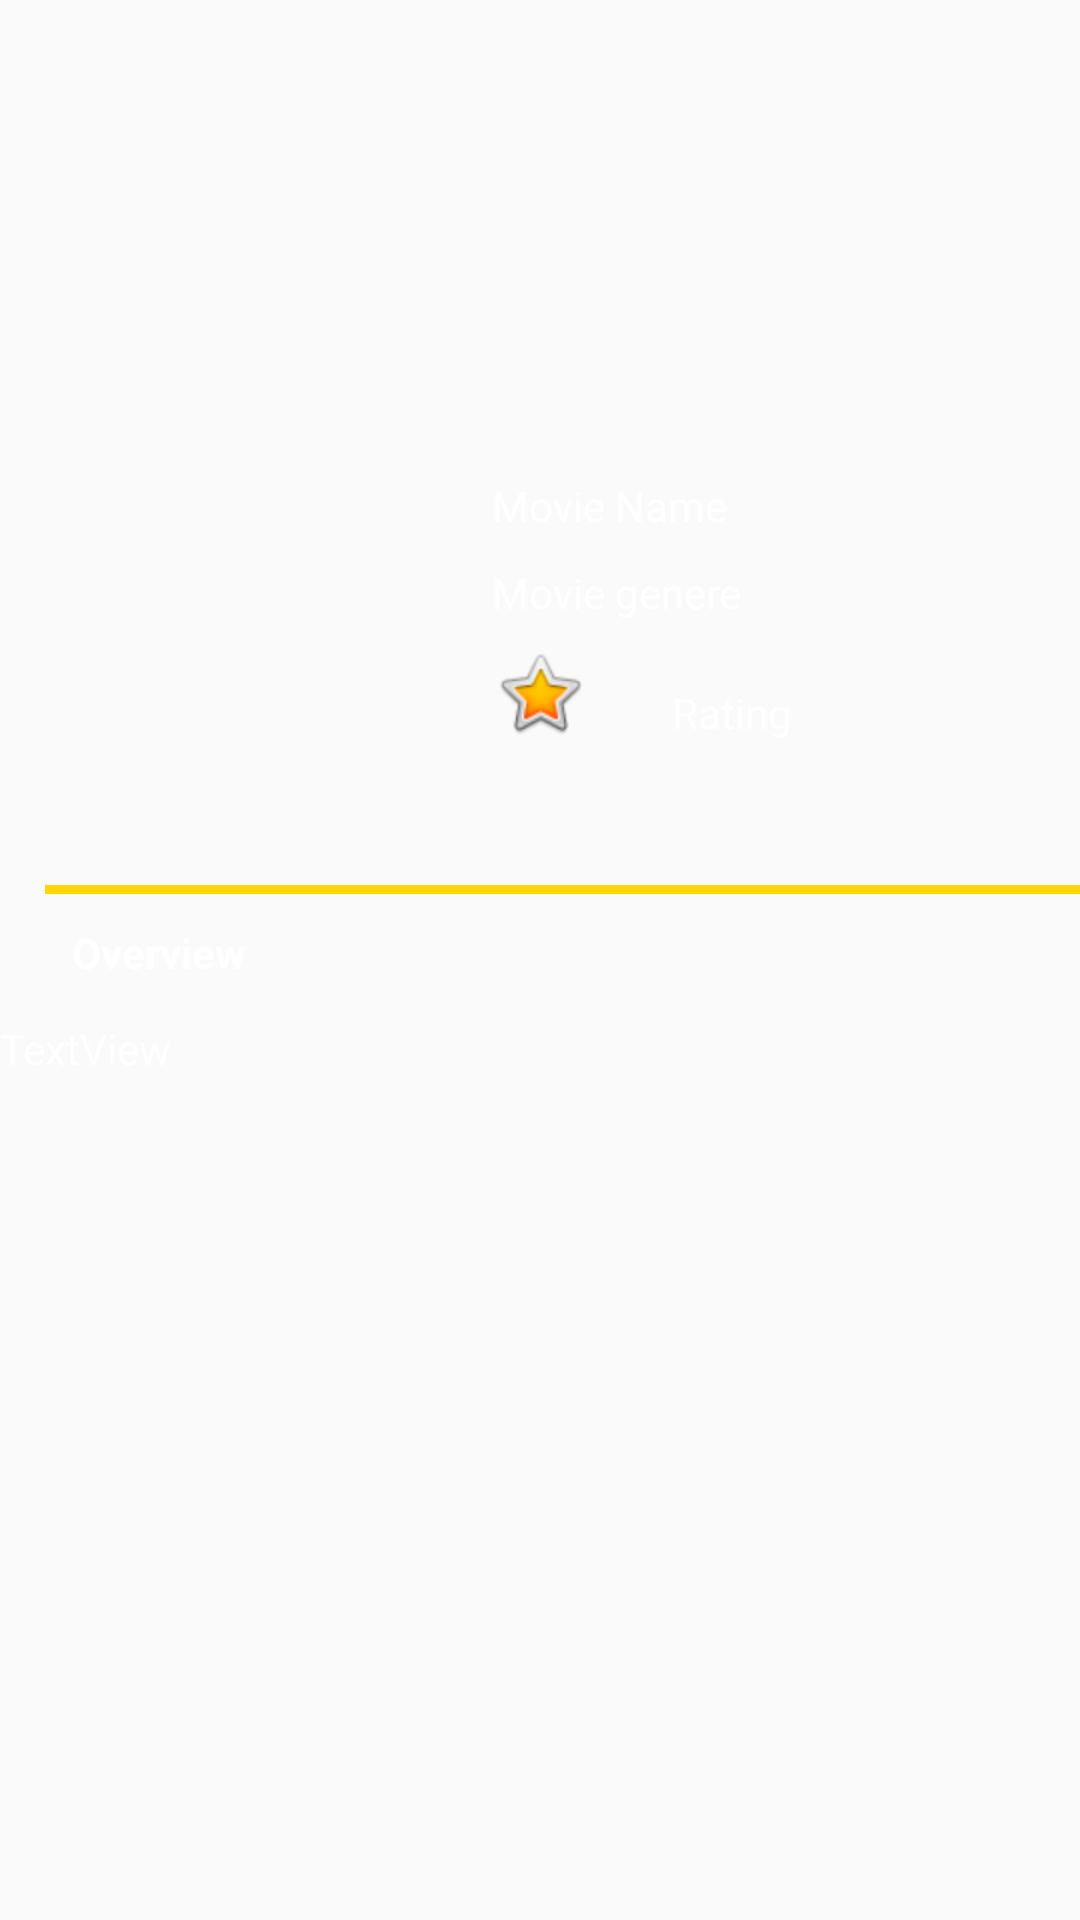

Screen size 1080x1920. Icon name, then its center in pixels as (x,y):
star on: (541,694)
